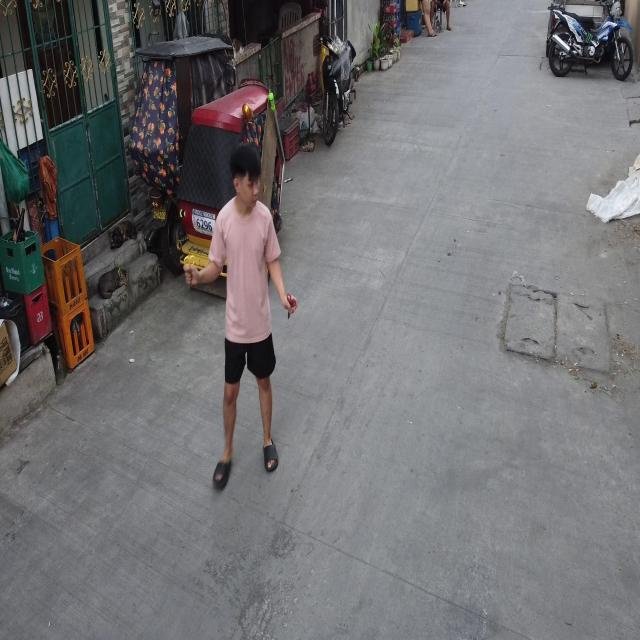scissor: (184, 255, 195, 290), (287, 293, 297, 319)
